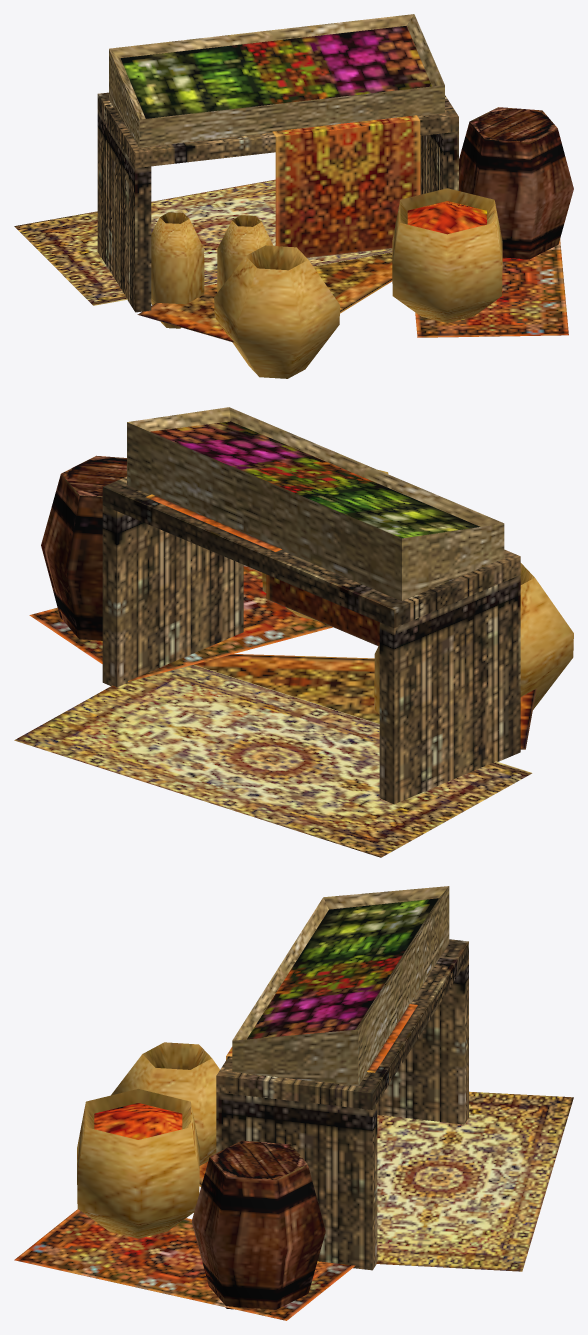
Rendered from treasure_pers_1.dae.
The picture shows the model from 3 angles, top to bottom: view 1: azimuth 30°, elevation 25°; view 2: azimuth 150°, elevation 25°; view 3: azimuth 270°, elevation 25°; orthographic projection. The views are drawn at different scales.
Parts seen in each view (by area): view 1: treasure4; view 2: treasure4; view 3: treasure4.
Boxes of the visible parts, x1=… form: treasure4: x1=14, y1=14, x2=573, y2=378; treasure4: x1=14, y1=407, x2=573, y2=857; treasure4: x1=14, y1=886, x2=573, y2=1320.
Size of the model in its own units: 6.27 by 6.26 by 3.3.
